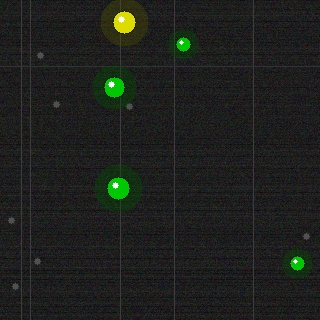green_normal: (105, 175, 131, 201), (102, 75, 126, 99), (174, 35, 192, 53), (288, 254, 306, 272)
yellow_warning: (111, 9, 137, 35)
